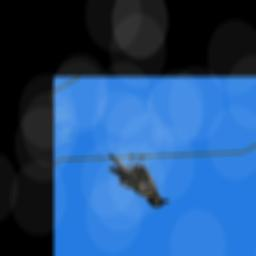Crow: (105, 140, 173, 220)
